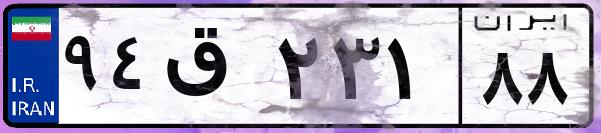1: (385, 28, 445, 110)
2: (270, 28, 330, 110)
3: (330, 28, 385, 110)
4: (110, 28, 158, 98)
8: (475, 38, 525, 113), (525, 38, 570, 115)
9: (57, 26, 110, 100)
ق: (158, 20, 270, 120)
